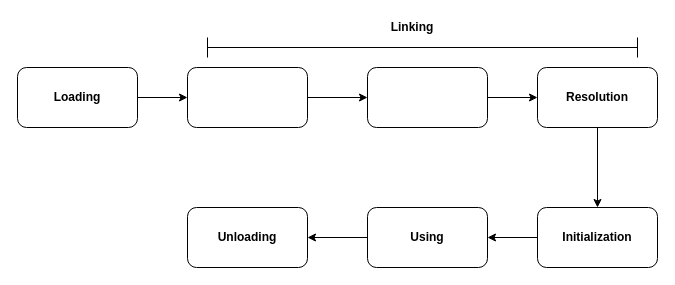
This 675x285 diagram has some shape labels left out. Each missing label, with the box of its shape:
Perparation: (366, 66, 488, 128)
Verification: (186, 66, 308, 128)
